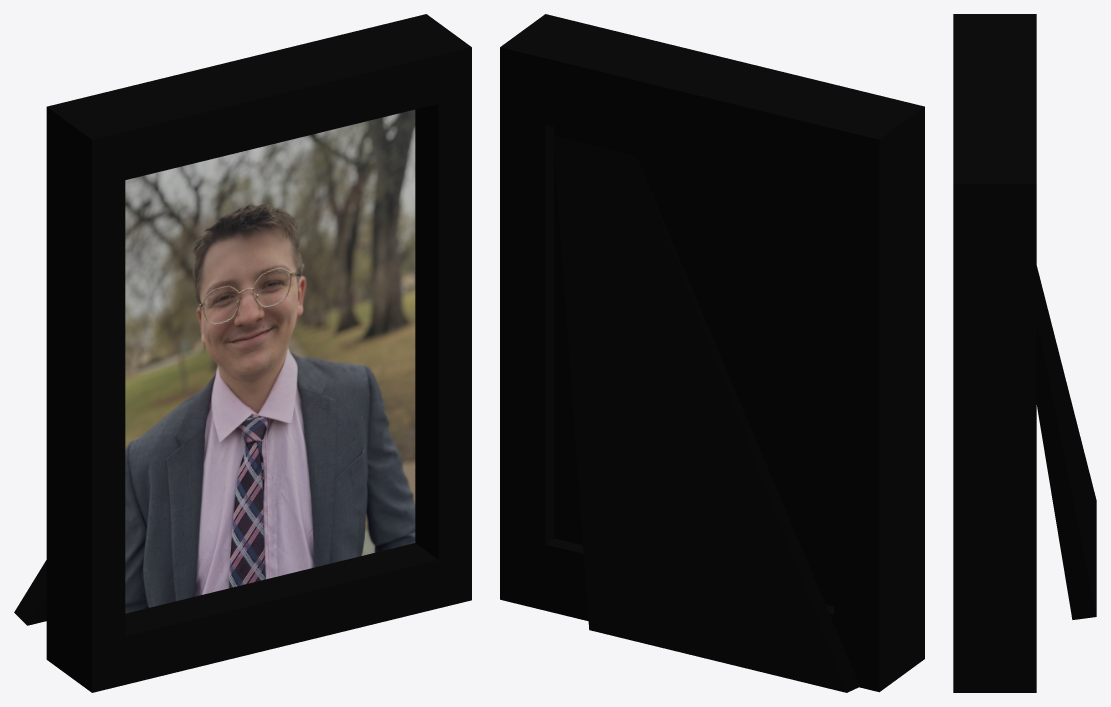
File: aboutme.glb
3 views of the same model, side by side, from view 1: azimuth 30°, elevation 25°; view 2: azimuth 150°, elevation 25°; view 3: azimuth 270°, elevation 25° (orthographic). The views are drawn at different scales.
Parts seen in each view (by area): view 1: Cube.001; view 2: Cube.001; view 3: Cube.001.
Part boxes in pixels (left/top/right/bottom): Cube.001: left=14, top=14, right=471, bottom=692; Cube.001: left=500, top=14, right=924, bottom=692; Cube.001: left=953, top=14, right=1096, bottom=692.
Size of the model in its own units: 7.01 by 9.75 by 2.5.
Materials: 2 (1 with a texture image).
